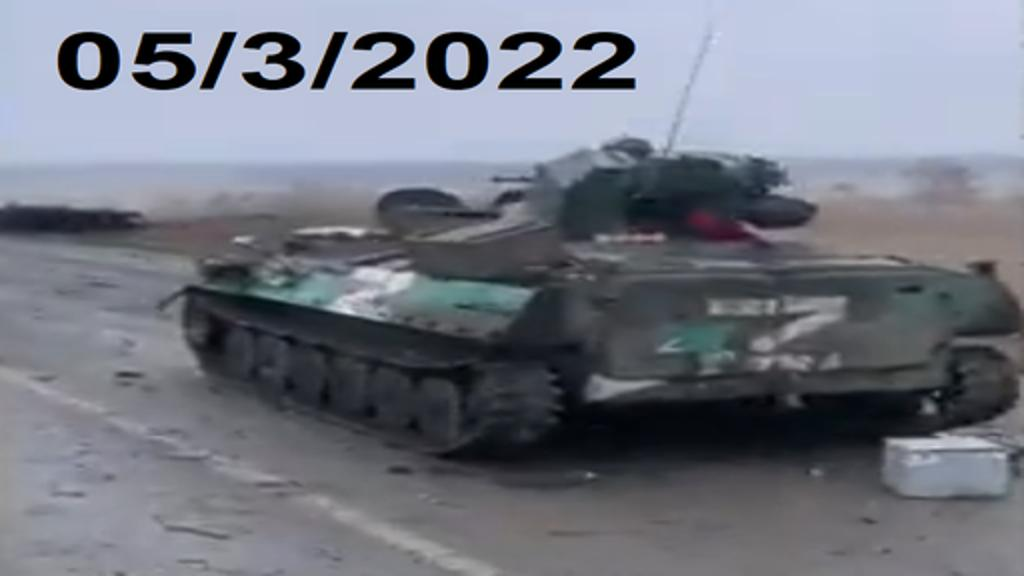APC-IFV: (172, 126, 1020, 484)
